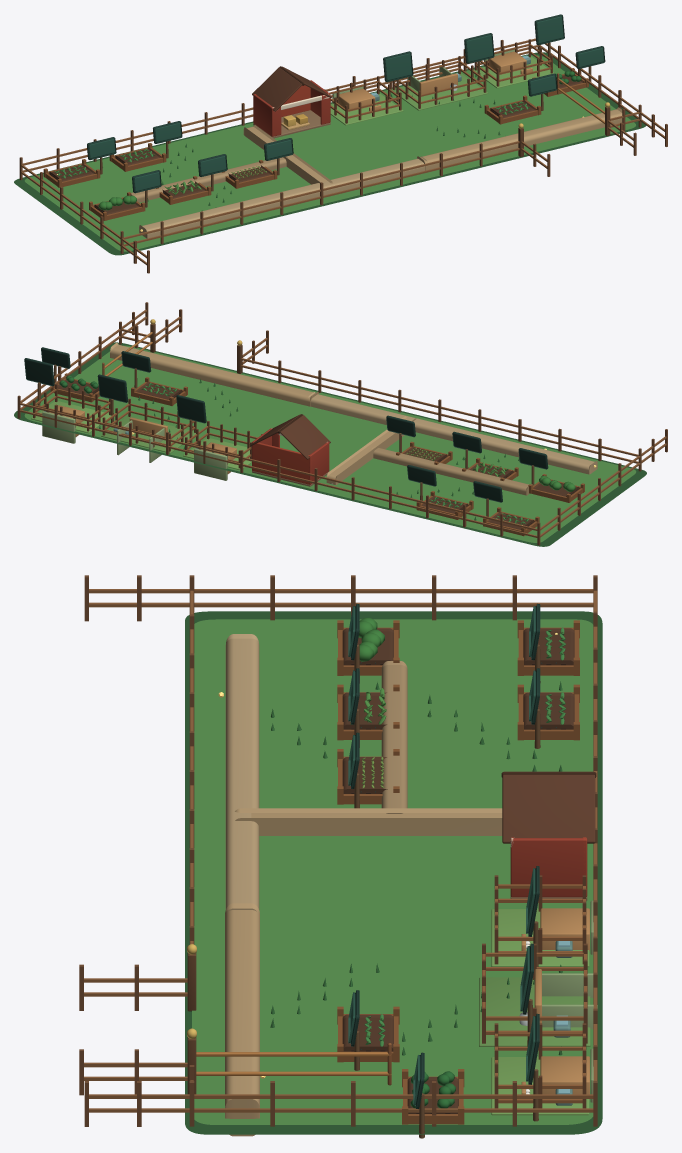
The model's file is farm.glb.
3 views of the same model, one above another, from view 1: azimuth 30°, elevation 25°; view 2: azimuth 150°, elevation 25°; view 3: azimuth 270°, elevation 25° (orthographic). The views are drawn at different scales.
Visible parts, largest first — view 1: n5, n14, n7, n4, n13, n6, n9, n168, n8, n216, n218, n178 (+29 smaller); view 2: n5, n14, n4, n13, n7, n6, n9, n164, n8, n168, n201, n273 (+25 smaller); view 3: n5, n14, n4, n7, n13, n8, n6, n169, n163, n9, n216, n178 (+28 smaller).
Boxes of the visible parts, <box> form: n5: <box>24,55,635,251</box>; n14: <box>21,38,664,265</box>; n7: <box>139,156,427,238</box>; n4: <box>14,52,646,255</box>; n13: <box>19,40,667,273</box>; n6: <box>417,107,622,170</box>; n9: <box>130,156,287,202</box>; n168: <box>252,67,302,111</box>; n8: <box>243,125,332,185</box>; n216: <box>391,73,488,110</box>; n218: <box>394,61,484,103</box>; n178: <box>330,93,403,125</box>; n5: <box>24,345,636,542</box>; n14: <box>19,309,666,537</box>; n4: <box>14,342,646,546</box>; n13: <box>17,302,667,545</box>; n7: <box>308,392,597,474</box>; n6: <box>110,342,318,406</box>; n9: <box>372,446,532,495</box>; n164: <box>252,441,311,484</box>; n8: <box>326,416,416,484</box>; n168: <box>280,415,330,459</box>; n201: <box>194,448,227,480</box>; n273: <box>42,411,75,443</box>; n5: <box>192,619,593,1124</box>; n14: <box>84,589,597,1112</box>; n4: <box>185,611,602,1134</box>; n7: <box>225,634,259,911</box>; n13: <box>79,575,597,1126</box>; n8: <box>235,808,502,835</box>; n6: <box>225,903,259,1136</box>; n169: <box>502,774,595,843</box>; n163: <box>510,838,587,897</box>; n9: <box>381,661,407,813</box>; n216: <box>479,977,590,1046</box>; n178: <box>491,909,589,967</box>.
Bounding box in the file's own units: 44.88 × 5.02 × 18.54.
